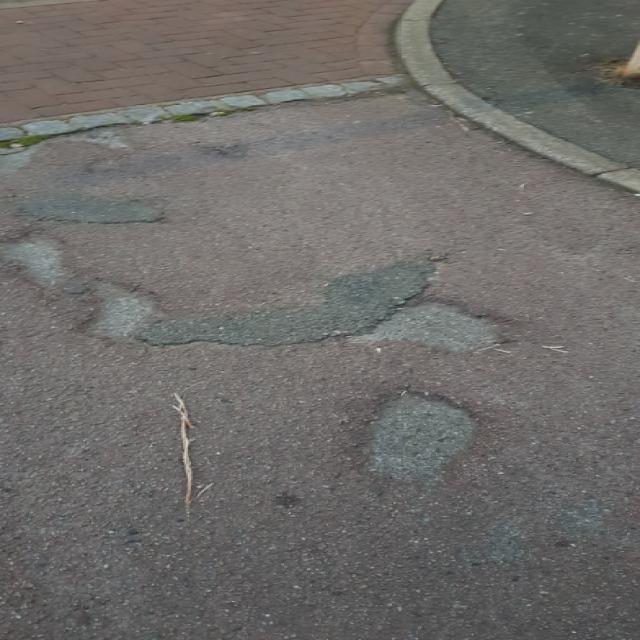Pothole: (351, 383, 481, 488), (341, 297, 518, 358), (70, 278, 165, 351), (1, 225, 74, 299)
